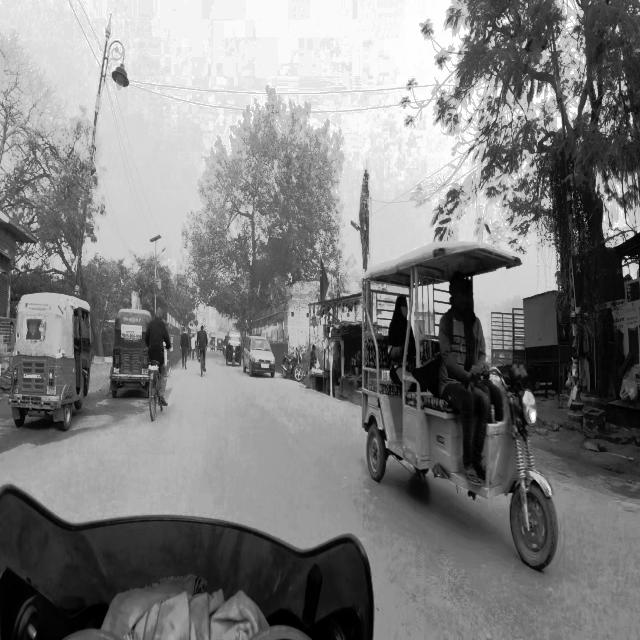Auto-Rickshaw: (8, 282, 100, 430), (109, 298, 161, 397)
Toto: (347, 227, 571, 587)
